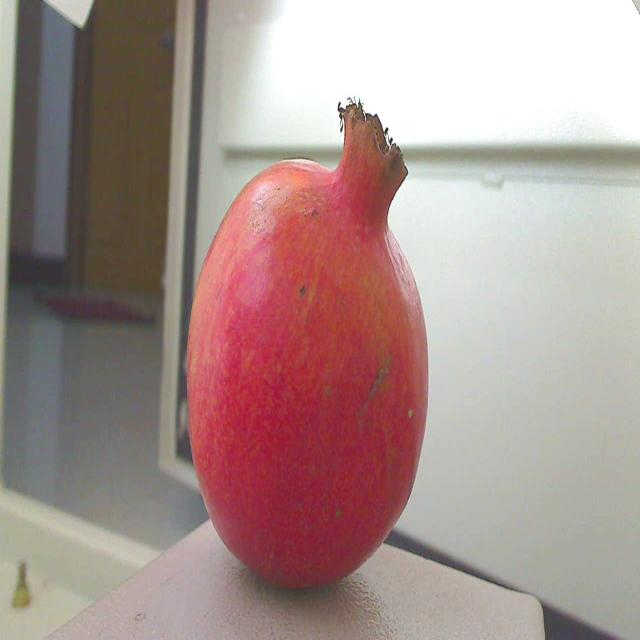pomegranate: (178, 80, 438, 601)
